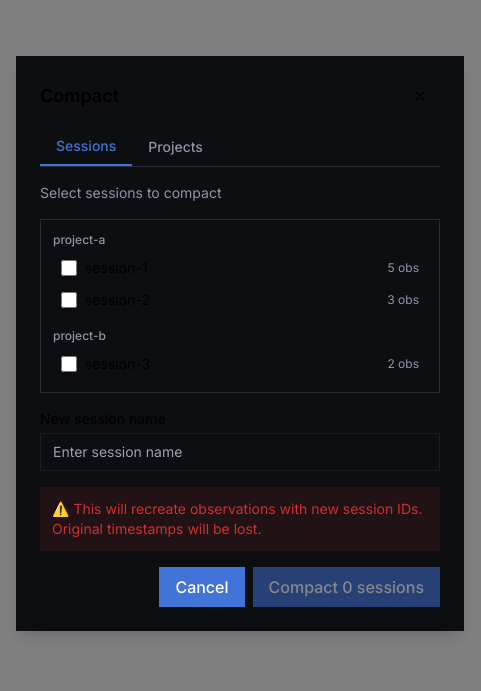
Scenario: CompactModal › button states › should enable compact button when session selected and name entered
Note: Select a session
Click the checkbox labelled "session-1 5 obs": [69, 268] box x1=61 y1=260 x2=77 y2=276
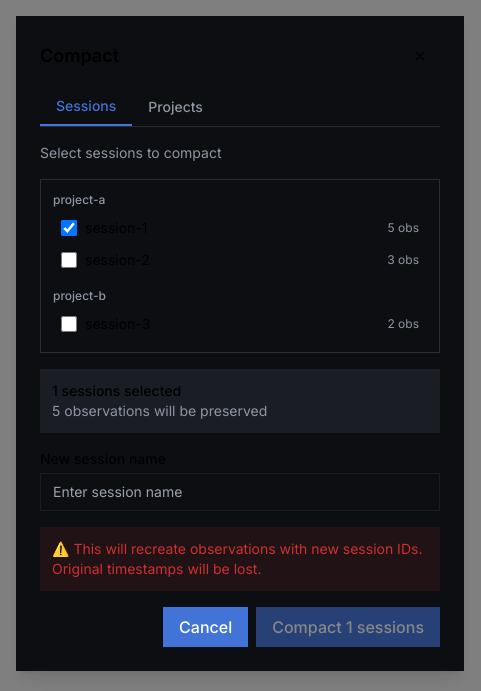
Note: Enter session name
In the field with placeholder "Enter session name": [240, 492] box x1=40 y1=472 x2=440 y2=510, type "My Session"
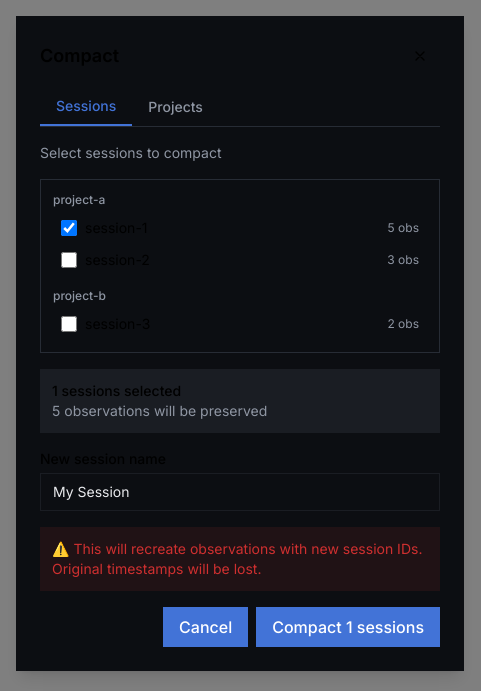
Check: the button "Compact 1 sessions" is enabled, box x1=256 y1=606 x2=440 y2=646
